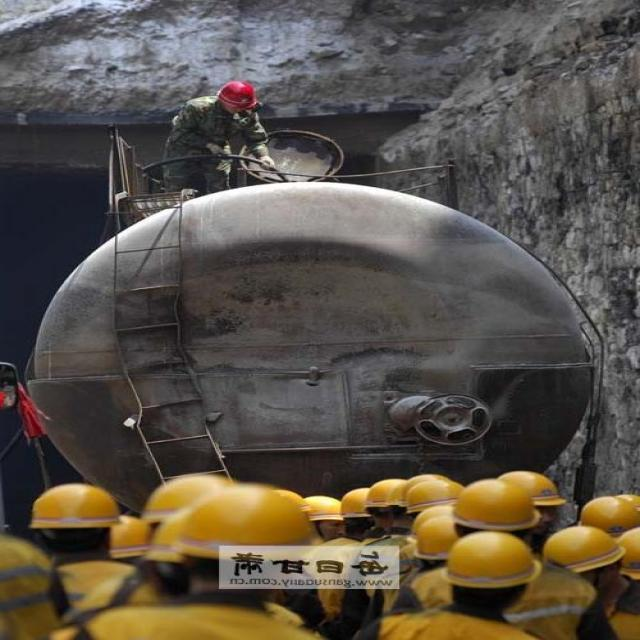reflective_jacket: (77, 608, 330, 639), (0, 536, 55, 639), (365, 611, 545, 639)
safety_helmet: (171, 486, 312, 556), (439, 531, 533, 587), (25, 483, 121, 531), (450, 479, 535, 527), (215, 77, 260, 109)
